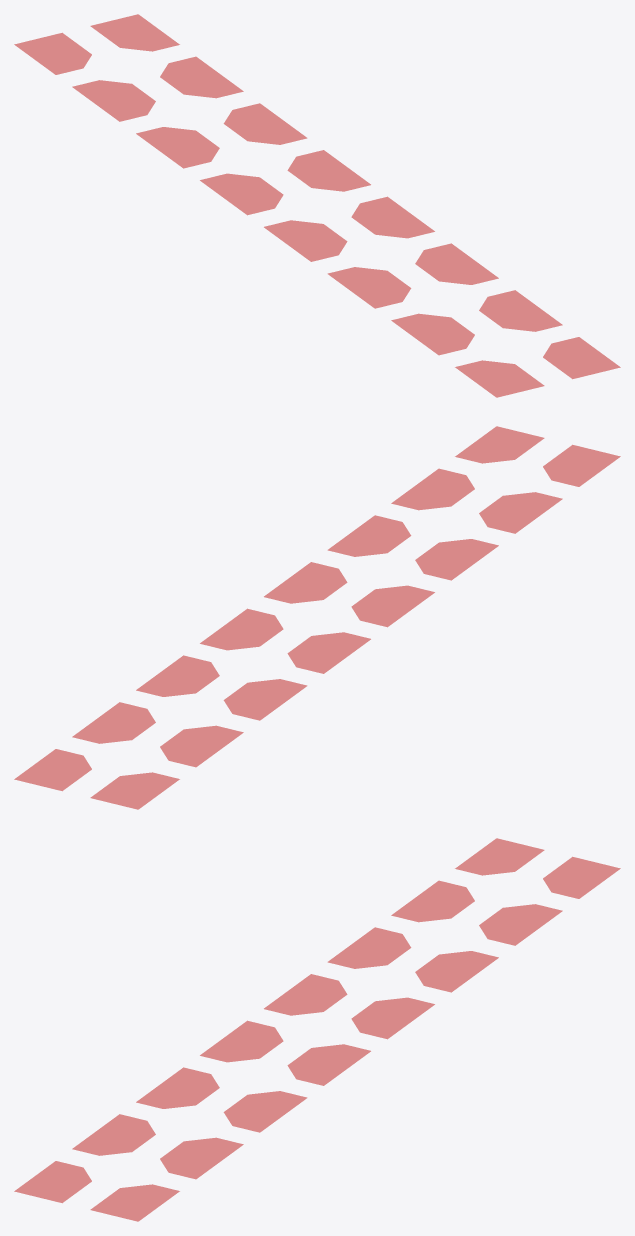
The model's file is SSQ_BRoom01_Btmobj.gltf.
3 renders of one model, top to bottom at view 1: azimuth 30°, elevation 25°; view 2: azimuth 150°, elevation 25°; view 3: azimuth 330°, elevation 25°, orthographic.
Visible parts, largest first — view 1: SSQ_BRoom01_Btmobj; view 2: SSQ_BRoom01_Btmobj; view 3: SSQ_BRoom01_Btmobj.
Boxes of the visible parts, box(x1,y1,x2,y2) form: SSQ_BRoom01_Btmobj: box(14, 14, 620, 397); SSQ_BRoom01_Btmobj: box(14, 426, 620, 809); SSQ_BRoom01_Btmobj: box(14, 838, 620, 1221).
Size of the model in its own units: 2.88 by 0 by 19.36.
